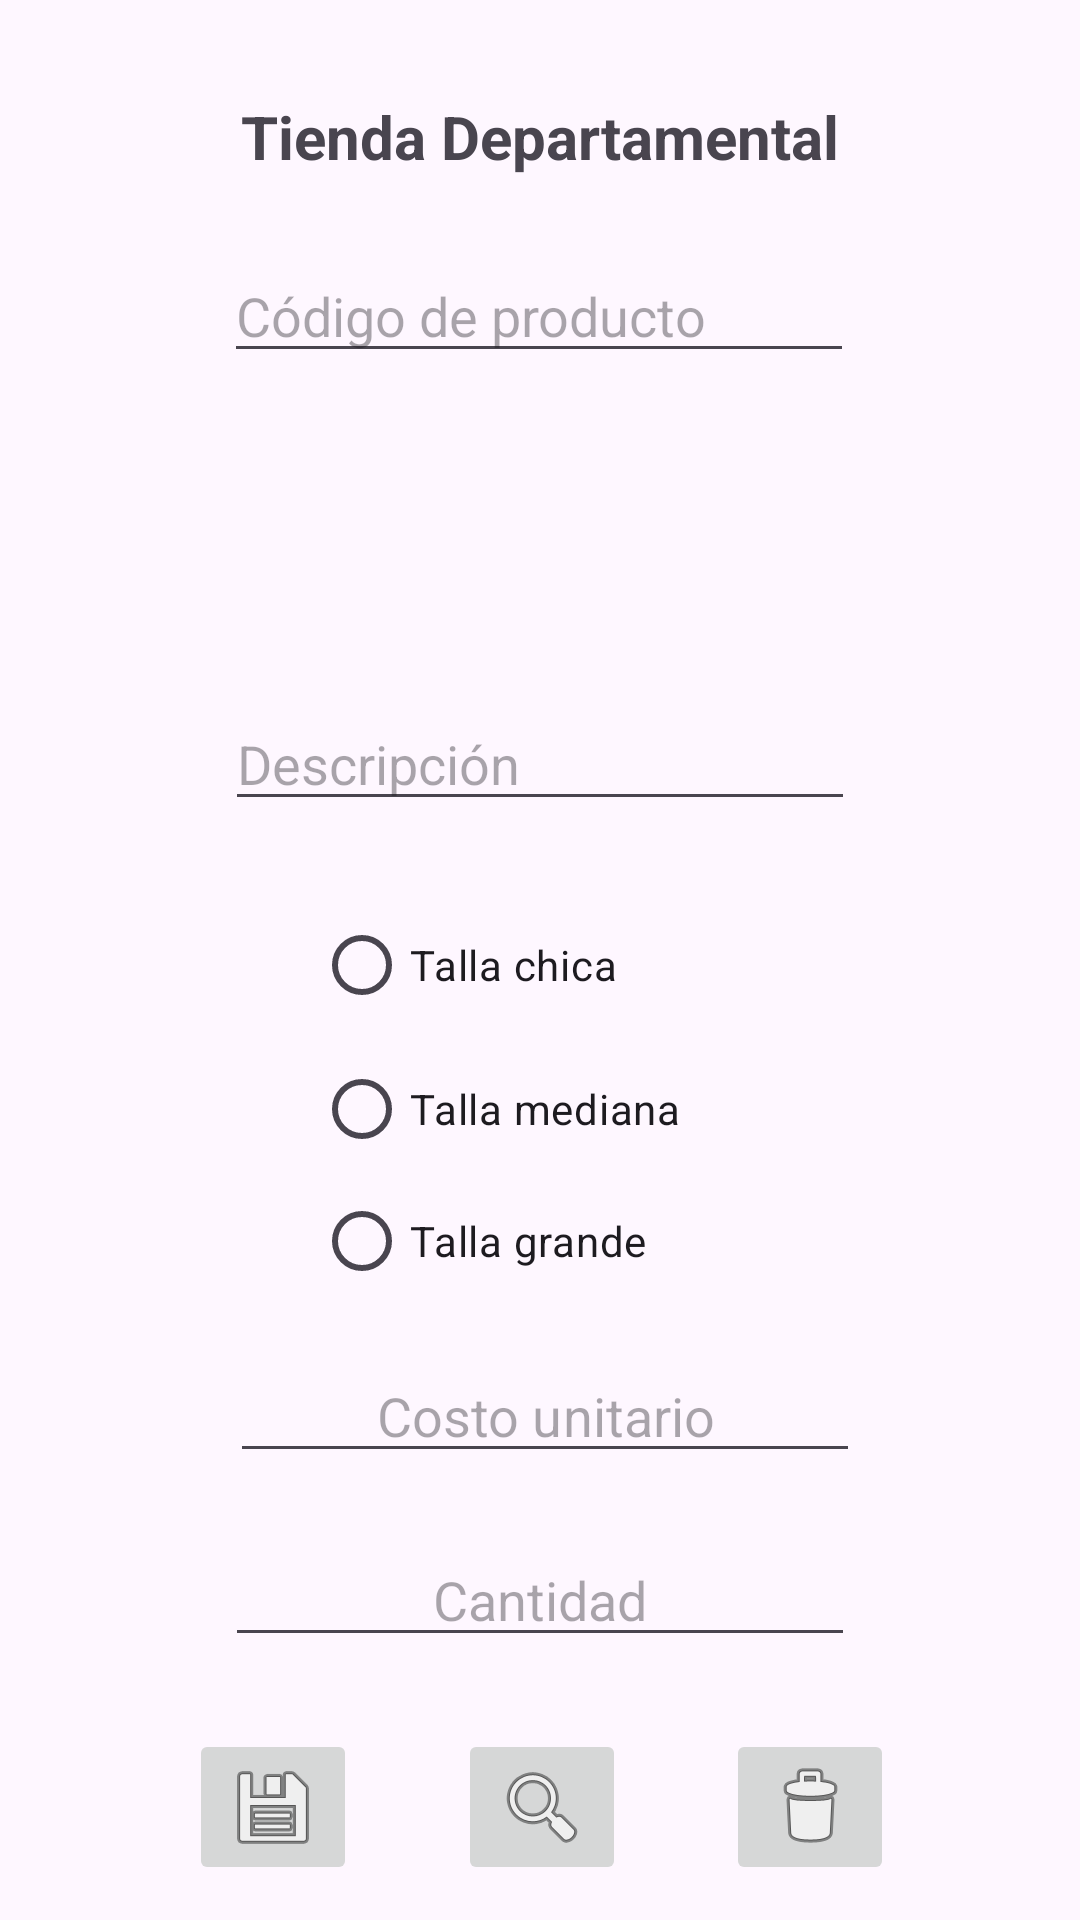

Icon click points for this 1080×1920 phone screenshot, format (x,y):
delete: (810,1807)
save: (273,1807)
search: (542,1807)
